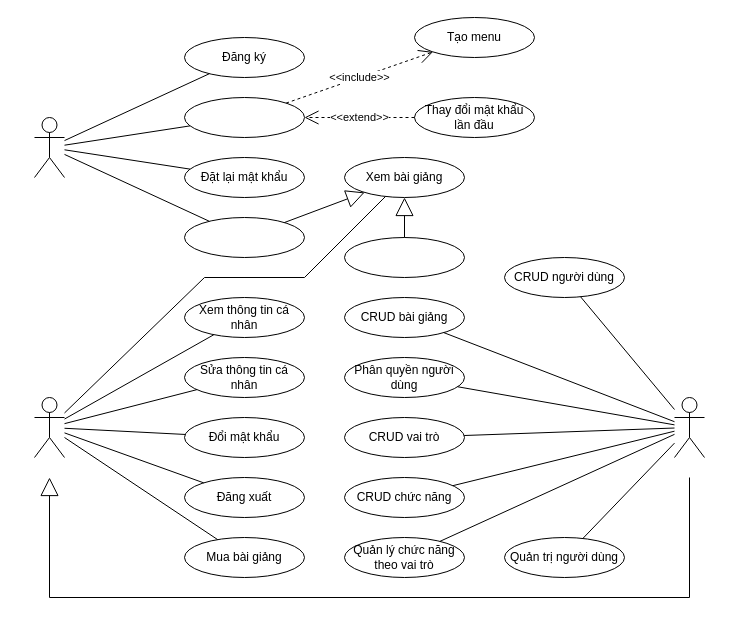
This 740x633 diagram has some shape labels left out. The centre of each missing label's shape, as x and y in pixels:
"Khách" goes at [49,147].
"Người dùng" goes at [49,427].
"Quản trị viên" goes at [689,427].
"Xem bài giảng có phí" goes at [404,257].
"Xem bài giảng miễn phí" goes at [244,237].
"Đăng nhập" goes at [244,117].
